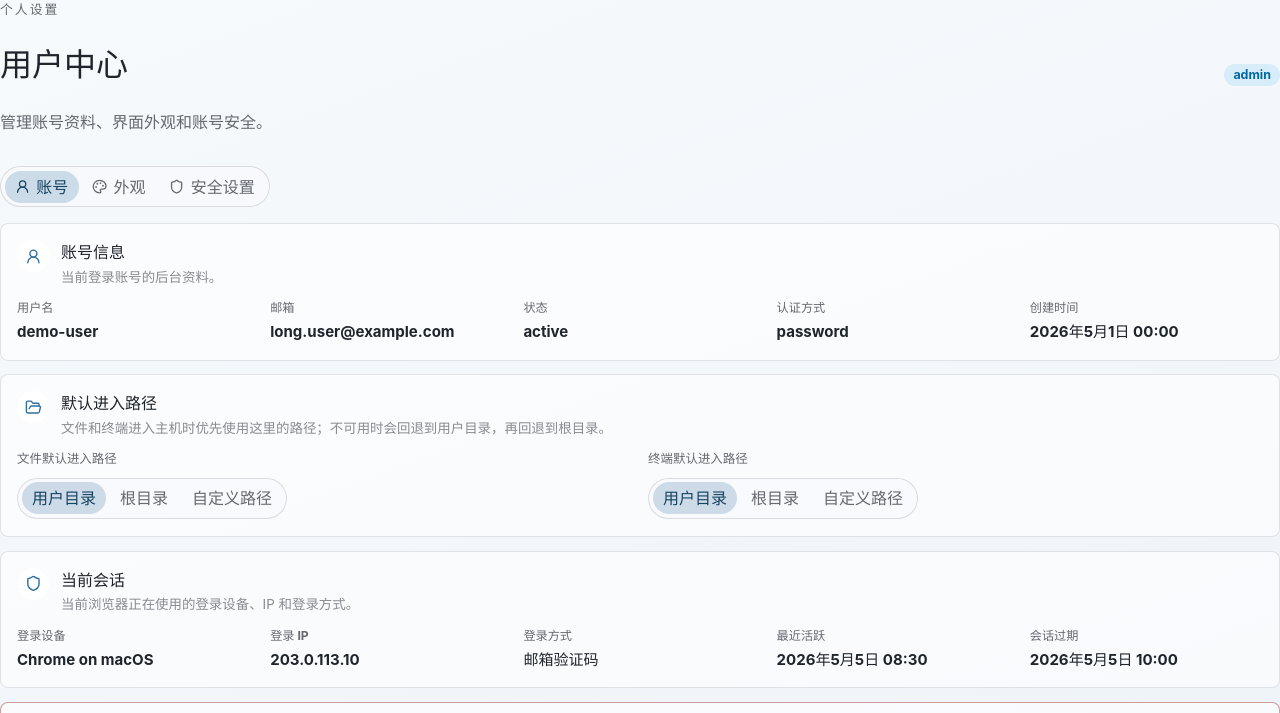
UserCenterPage › moves enabled MFA verification into dedicated action dialogs
Click the button "安全设置".
click(212, 187)  # box [159,171,265,203]
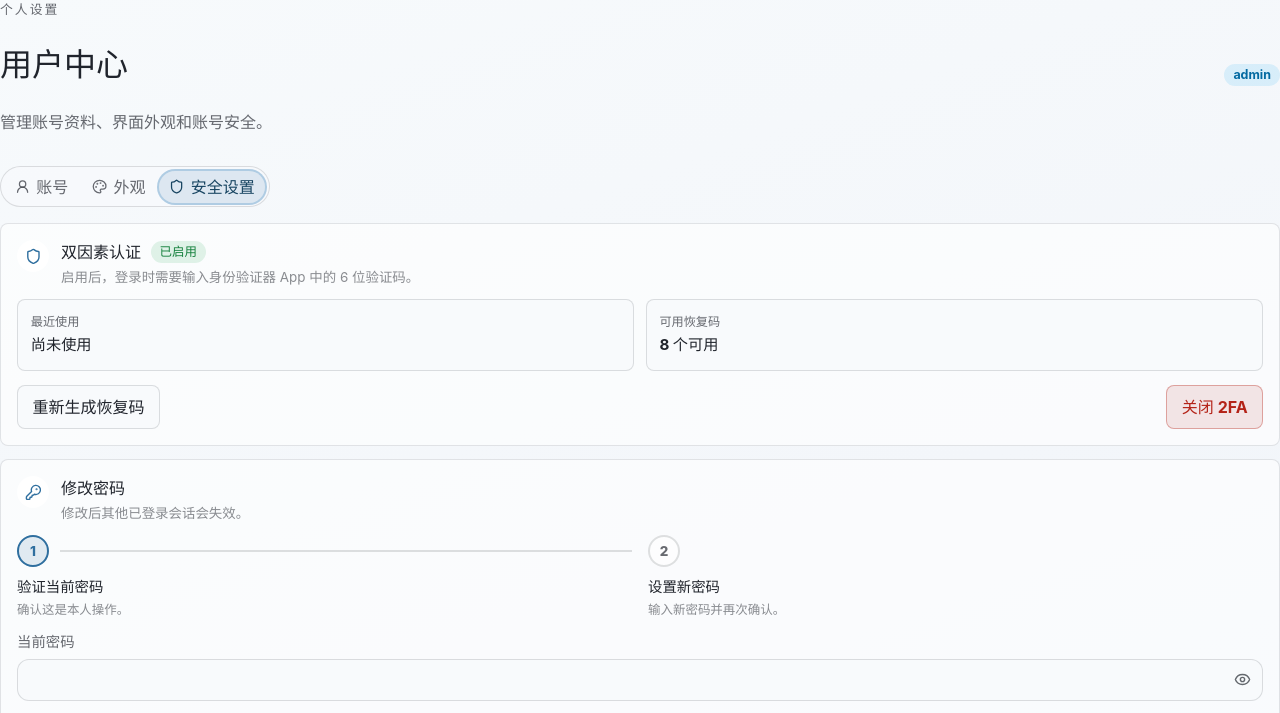
Expected: the text "尚未使用" is shown, [31,335,92,354]
Expected: the text "8 个可用" is shown, [659,335,718,354]
Click the button "重新生成恢复码".
click(88, 407)  # box [17,385,160,429]
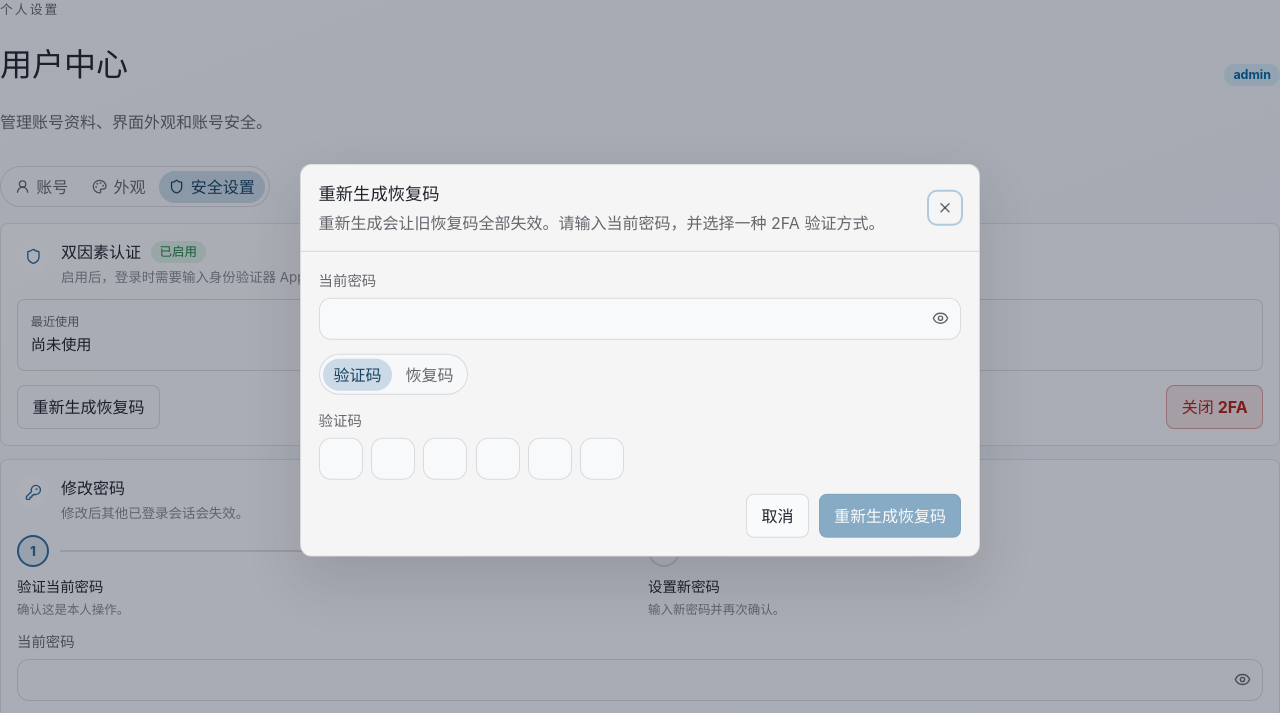
Type "current-pass" into the password field labelled "当前密码".
click(620, 319); type("current-pass")  # box [320,299,920,339]
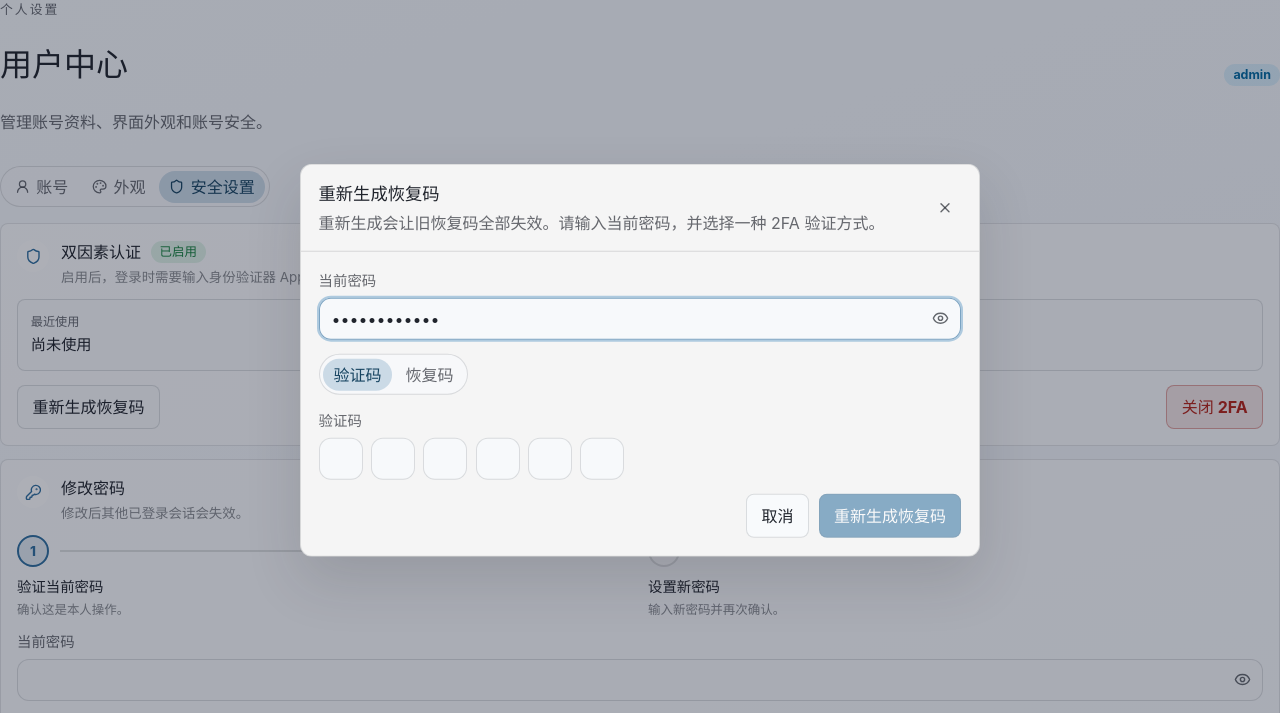
Type "123456" into the field named "验证码第".
click(341, 459); type("123456")  # box [319,438,363,480]
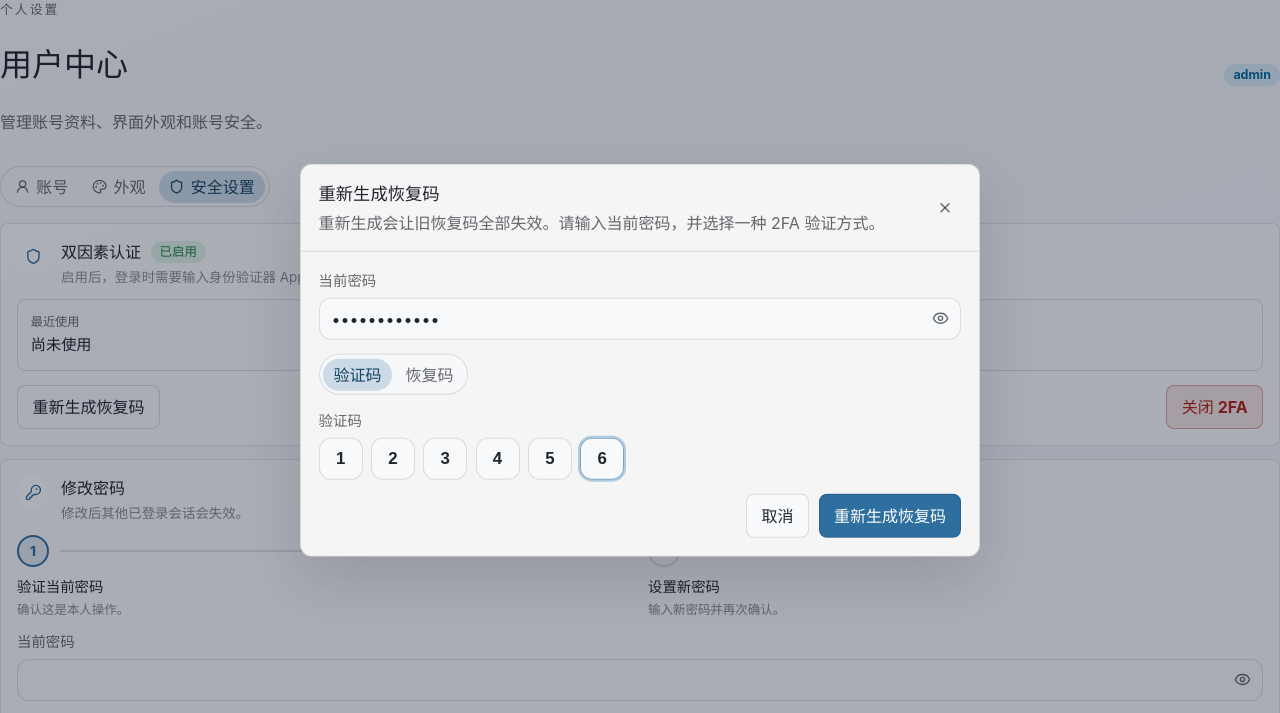
Click the button "重新生成恢复码".
click(890, 516)  # box [819,494,961,538]
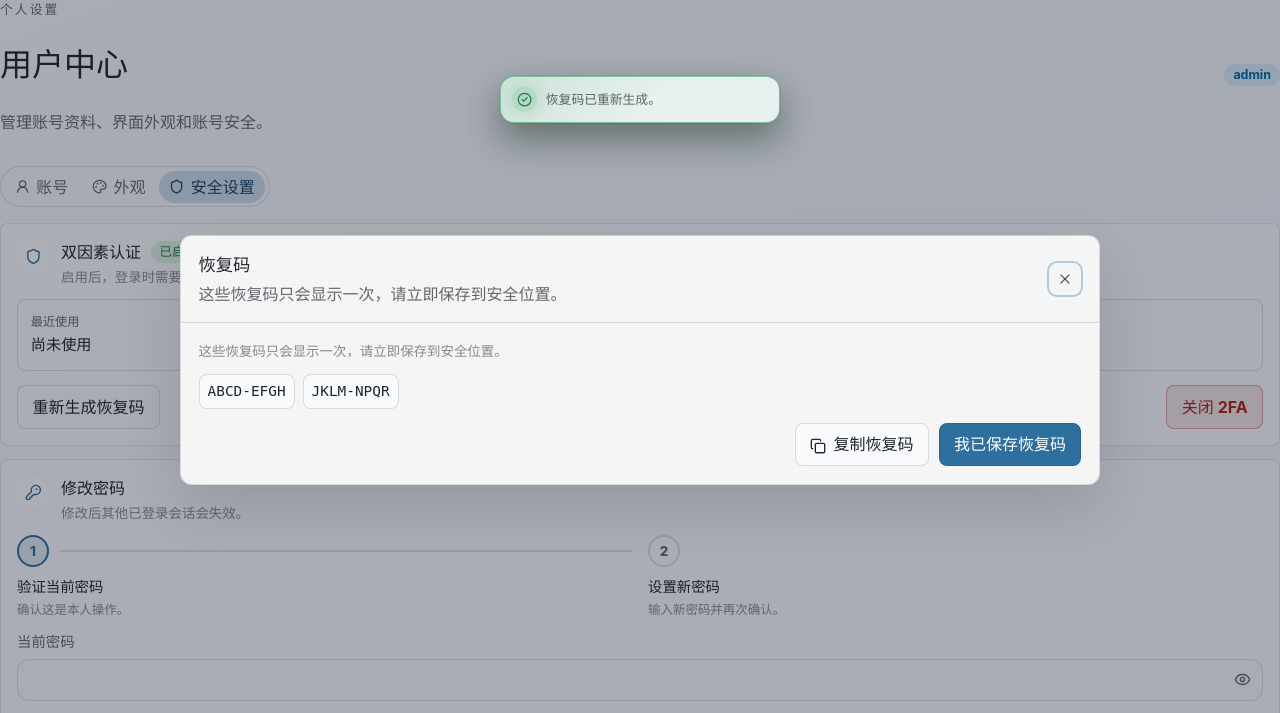
Expected: the dialog "恢复码" is shown, [180,235,1100,485]
